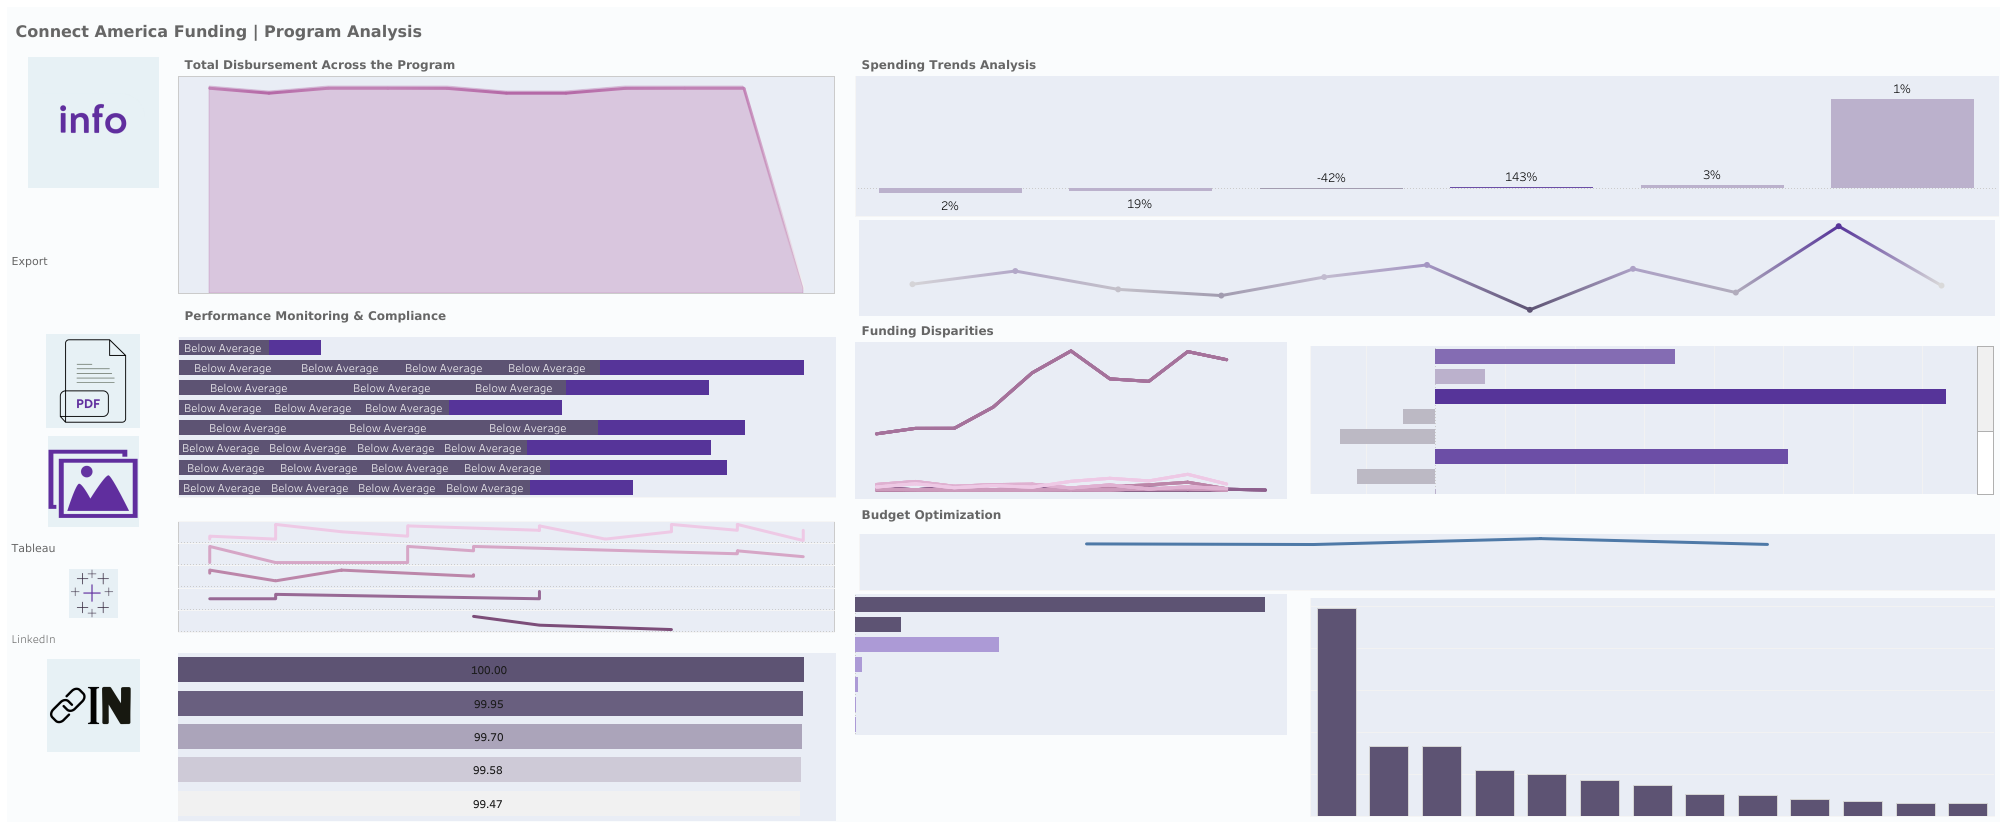

This screenshot's page, from the dashboard's own definition file:
{"tool":"tableau","page":{"name":"Connect America Funding | Program Analysis","canvas":[1000,1000],"units":"permille","ordinal":0},"visuals":[{"type":"text","box":[8.1,11.4,983.9,53.3]},{"type":"dashboard-object","box":[8.1,64.7,83.7,167]},{"type":"text","box":[91.8,64.7,334.9,33]},{"type":"text","box":[426.6,64.7,565.3,33]},{"type":"worksheet","title":"Total Disb/Time","mark":"Line","rows":["total_disbursement","total_disbursement"],"cols":["year"],"box":[91.8,97.8,334.9,260.5]},{"type":"worksheet","title":"Contribution to YOY change","mark":"Bar","rows":["yoy_change"],"cols":["state (YOY by state)"],"box":[426.6,97.8,565.3,177.9]},{"type":"text","box":[8.1,231.8,83.7,167]},{"type":"worksheet","title":"Rolling3","mark":"Automatic","rows":["Calculation_1576541366676643848"],"cols":["year (Avg!Rolling!3month)"],"box":[426.6,275.7,565.3,109]},{"type":"text","box":[91.8,358.3,334.9,33]},{"type":"text","box":[426.6,384.6,565.3,33]},{"type":"worksheet","title":"Disb Compliance","mark":"Automatic","rows":["studyarea_name (Avg Disbursment Compliance)"],"cols":["avg_disbursed"],"box":[91.8,391.3,334.9,246.5]},{"type":"dashboard-object","box":[8.1,398.8,83.7,122]},{"type":"worksheet","title":"States x ttl disb","mark":"Line","rows":["total_disbursed (States by Total Disbursement)"],"cols":["year"],"box":[426.6,417.7,403,194.4]},{"type":"worksheet","title":"Below Avg Fund","mark":"Automatic","rows":["fund_type (Below Avg Funding)"],"cols":["Calculation_1576541366681153545"],"box":[829.7,417.7,162.3,194.4]},{"type":"dashboard-object","box":[8.1,520.8,83.7,119.4]},{"type":"text","box":[426.6,612.1,565.3,40.7]},{"type":"worksheet","title":"Delayed Disb","mark":"Line","rows":["delayed_disbursements","month"],"cols":["Year"],"box":[91.8,637.8,334.9,155]},{"type":"text","box":[8.1,640.2,83.7,40.7]},{"type":"worksheet","title":"Underutilization","mark":"Line","rows":["budget_total"],"cols":["funding_date"],"box":[426.6,652.8,565.3,81.3]},{"type":"image","param":"Image/Untitled design (1).jpg","box":[8.1,680.9,83.7,68.5]},{"type":"worksheet","title":"Discrepancies","mark":"Bar","rows":["StudyArea_Name"],"cols":["Calculation_1576541364925882374"],"box":[426.6,734.1,403,254.5]},{"type":"worksheet","title":"Avg_M_All","mark":"Automatic","rows":["avg_monthly_disbursement"],"cols":["fund_type"],"box":[829.7,734.1,162.2,254.5]},{"type":"text","box":[8.1,749.4,83.7,40.7]},{"type":"image","param":"Image/Untitled design (1).png","box":[8.1,790.1,83.7,121.3]},{"type":"worksheet","title":"T5 Utilization","mark":"Bar","rows":["state (Top 5 By Utilization)"],"cols":["utilization_efficiency"],"box":[91.8,792.8,334.9,195.7]},{"type":"blank","box":[8.1,911.5,83.7,38.6]},{"type":"blank","box":[8.1,950,83.7,38.6]}]}

Visuals, with their boxes on the dashboard's canvas, which has no fixed pixel size, in thousandths of its width and height (x1, y1, x2, y2). These are canvas units, not pixel positions in the 2006x828 screenshot, which may show the page scaled, cropped or inside an application window:
text: BBox(8, 11, 992, 65)
dashboard-object: BBox(8, 65, 92, 232)
text: BBox(92, 65, 427, 98)
text: BBox(427, 65, 992, 98)
"Total Disb/Time" worksheet (Line marks): BBox(92, 98, 427, 358)
"Contribution to YOY change" worksheet (Bar marks): BBox(427, 98, 992, 276)
text: BBox(8, 232, 92, 399)
"Rolling3" worksheet: BBox(427, 276, 992, 385)
text: BBox(92, 358, 427, 391)
text: BBox(427, 385, 992, 418)
"Disb Compliance" worksheet: BBox(92, 391, 427, 638)
dashboard-object: BBox(8, 399, 92, 521)
"States x ttl disb" worksheet (Line marks): BBox(427, 418, 830, 612)
"Below Avg Fund" worksheet: BBox(830, 418, 992, 612)
dashboard-object: BBox(8, 521, 92, 640)
text: BBox(427, 612, 992, 653)
"Delayed Disb" worksheet (Line marks): BBox(92, 638, 427, 793)
text: BBox(8, 640, 92, 681)
"Underutilization" worksheet (Line marks): BBox(427, 653, 992, 734)
image: BBox(8, 681, 92, 749)
"Discrepancies" worksheet (Bar marks): BBox(427, 734, 830, 989)
"Avg_M_All" worksheet: BBox(830, 734, 992, 989)
text: BBox(8, 749, 92, 790)
image: BBox(8, 790, 92, 911)
"T5 Utilization" worksheet (Bar marks): BBox(92, 793, 427, 988)
blank: BBox(8, 912, 92, 950)
blank: BBox(8, 950, 92, 989)
